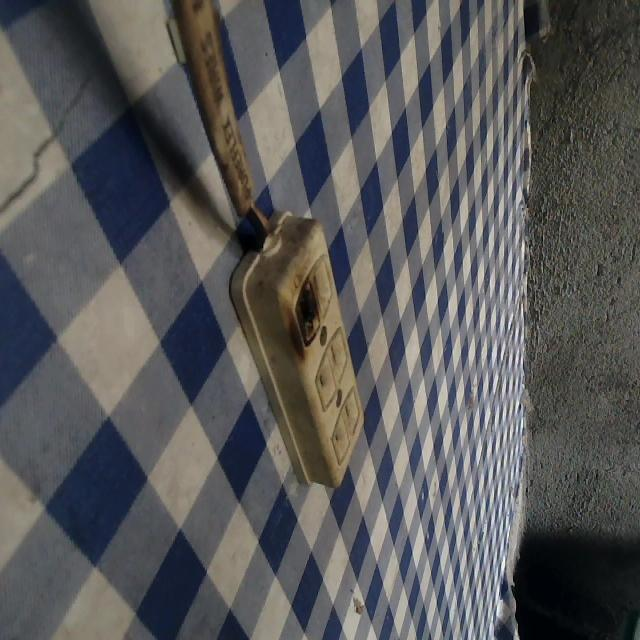-: (284, 268, 326, 356)
